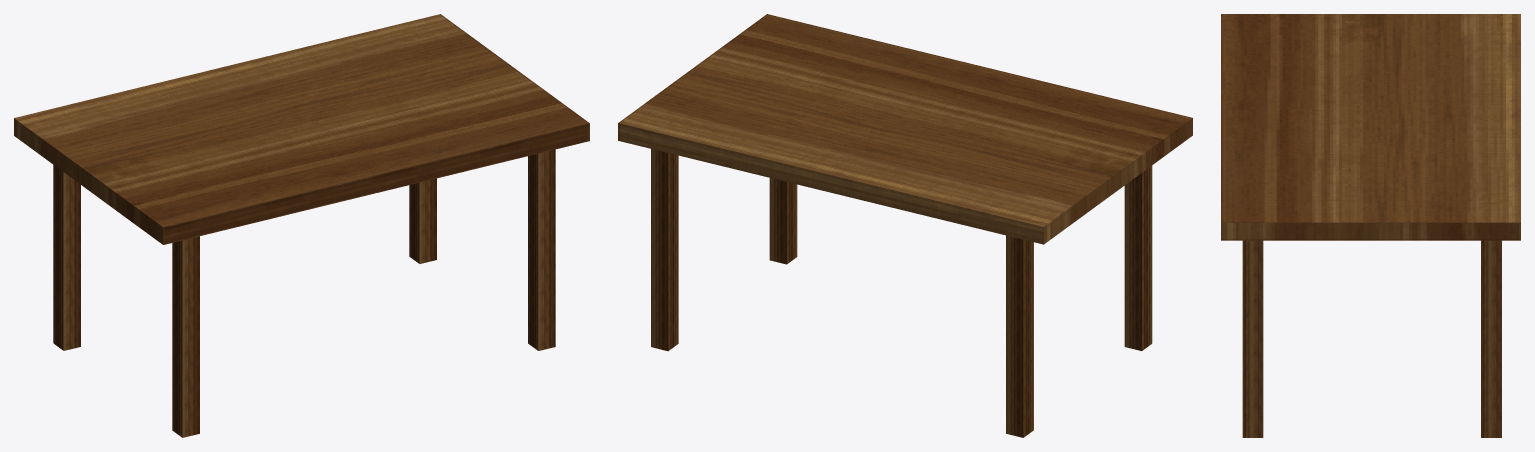
The model's file is Table.fbx.
3 views of the same model, side by side, from view 1: azimuth 30°, elevation 25°; view 2: azimuth 150°, elevation 25°; view 3: azimuth 270°, elevation 25° (orthographic).
Visible parts, largest first — view 1: Table; view 2: Table; view 3: Table.
Boxes of the visible parts, bbox=[...] form: Table: bbox=[14, 14, 589, 437]; Table: bbox=[618, 14, 1192, 437]; Table: bbox=[1221, 14, 1520, 437].
Size of the model in its own units: 110 by 55.52 by 66.59.
1 material, 1 textured.
